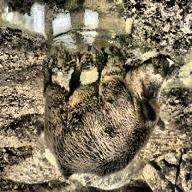boar: (44, 51, 180, 186)
